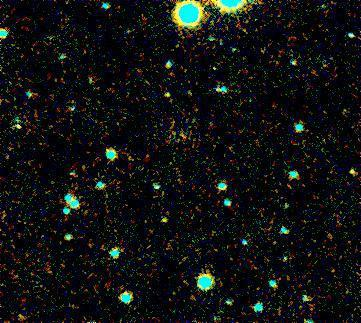star: (151, 77, 181, 107)
